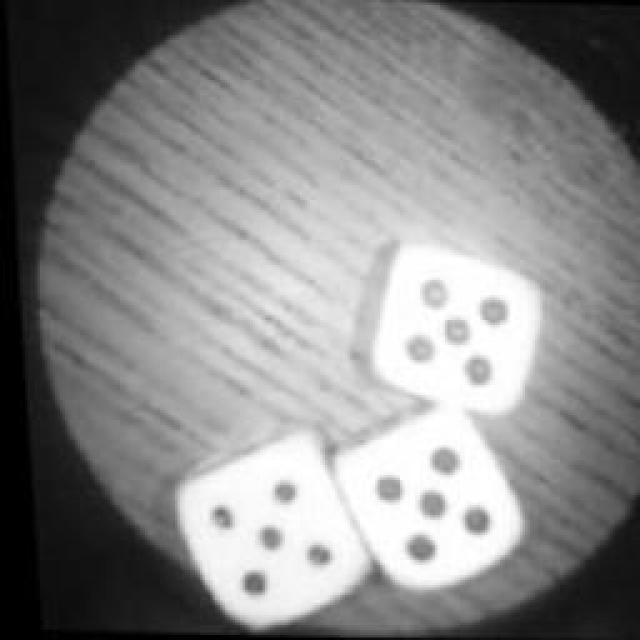dice_5: (150, 424, 360, 638), (320, 398, 530, 608), (349, 234, 549, 424)
